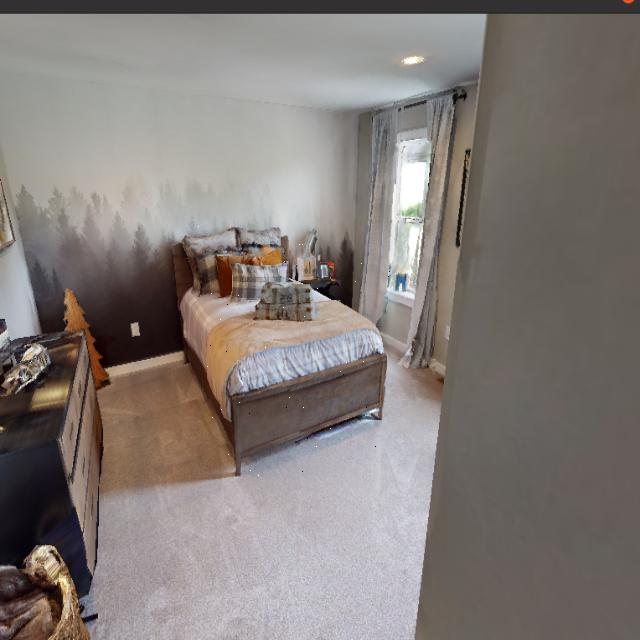bed: (176, 210, 395, 485)
